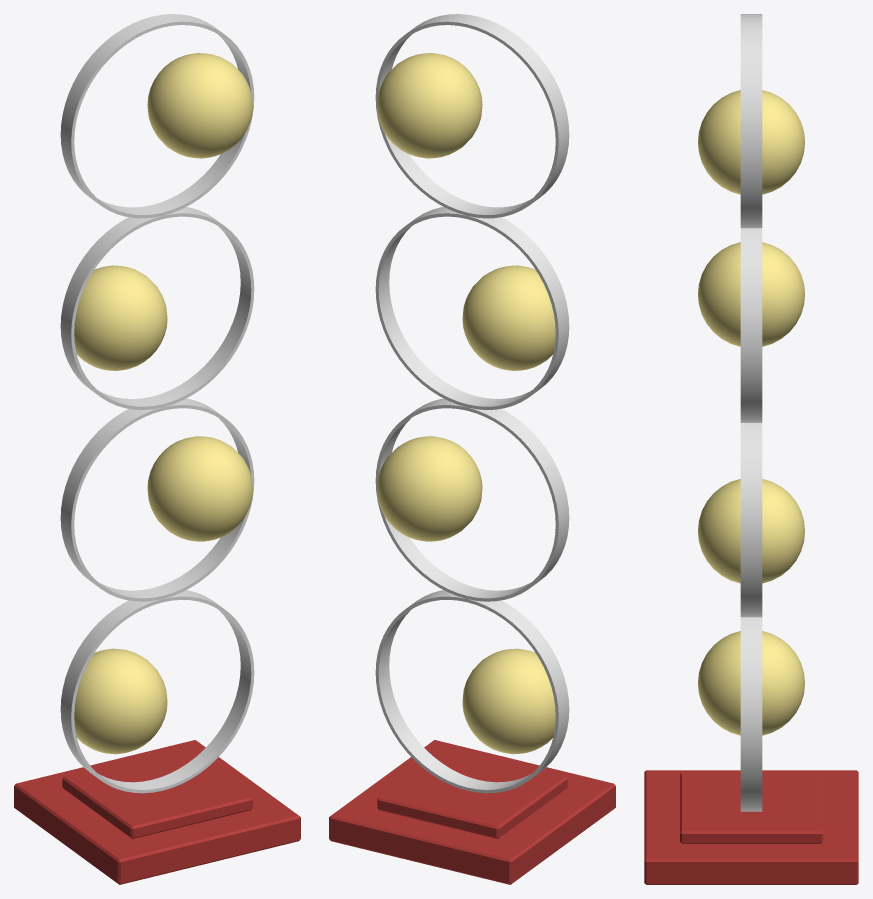
The model's file is light.FBX.
The picture shows the model from 3 angles, left to right: view 1: azimuth 30°, elevation 25°; view 2: azimuth 150°, elevation 25°; view 3: azimuth 270°, elevation 25°; orthographic projection.
Parts seen in each view (by area): view 1: ChamferBox002, ChamferBox001, Sphere002, Sphere004, Sphere001, Sphere003, Tube001, Tube004, Tube003, Tube002, Tube005, Sphere005; view 2: ChamferBox002, ChamferBox001, Sphere002, Sphere001, Sphere003, Sphere005, Tube001, Tube004, Tube002, Tube003, Tube005, Sphere004; view 3: ChamferBox002, ChamferBox001, Sphere002, Sphere001, Sphere003, Tube003, Tube004, Tube001, Tube002, Sphere004, Sphere005, Tube005.
Part boxes in pixels (left/top/right/bottom): ChamferBox002: left=14, top=740, right=300, bottom=884; ChamferBox001: left=62, top=747, right=252, bottom=838; Sphere002: left=147, top=436, right=252, bottom=541; Sphere004: left=151, top=54, right=252, bottom=158; Sphere001: left=74, top=648, right=167, bottom=754; Sphere003: left=74, top=265, right=167, bottom=370; Tube001: left=60, top=590, right=254, bottom=793; Tube004: left=60, top=207, right=254, bottom=409; Tube003: left=60, top=14, right=254, bottom=218; Tube002: left=60, top=398, right=254, bottom=601; Tube005: left=60, top=14, right=248, bottom=214; Sphere005: left=147, top=53, right=222, bottom=152; ChamferBox002: left=329, top=740, right=615, bottom=884; ChamferBox001: left=377, top=747, right=567, bottom=838; Sphere002: left=377, top=436, right=482, bottom=541; Sphere001: left=462, top=648, right=555, bottom=754; Sphere003: left=462, top=265, right=555, bottom=370; Sphere005: left=377, top=56, right=475, bottom=158; Tube001: left=375, top=590, right=569, bottom=793; Tube004: left=375, top=207, right=569, bottom=409; Tube002: left=375, top=398, right=569, bottom=601; Tube003: left=379, top=14, right=569, bottom=214; Tube005: left=375, top=20, right=569, bottom=218; Sphere004: left=397, top=53, right=482, bottom=145; ChamferBox002: left=644, top=770, right=858, bottom=884; ChamferBox001: left=680, top=772, right=822, bottom=843; Sphere002: left=698, top=479, right=804, bottom=583; Sphere001: left=698, top=631, right=804, bottom=735; Sphere003: left=698, top=242, right=804, bottom=346; Tube003: left=740, top=14, right=762, bottom=227; Tube004: left=740, top=228, right=762, bottom=422; Tube001: left=740, top=617, right=762, bottom=811; Tube002: left=740, top=423, right=762, bottom=617; Sphere004: left=698, top=90, right=771, bottom=194; Sphere005: left=762, top=90, right=804, bottom=194; Tube005: left=740, top=15, right=762, bottom=228.
Bounding box in the file's own units: 300 × 1260 × 300.
